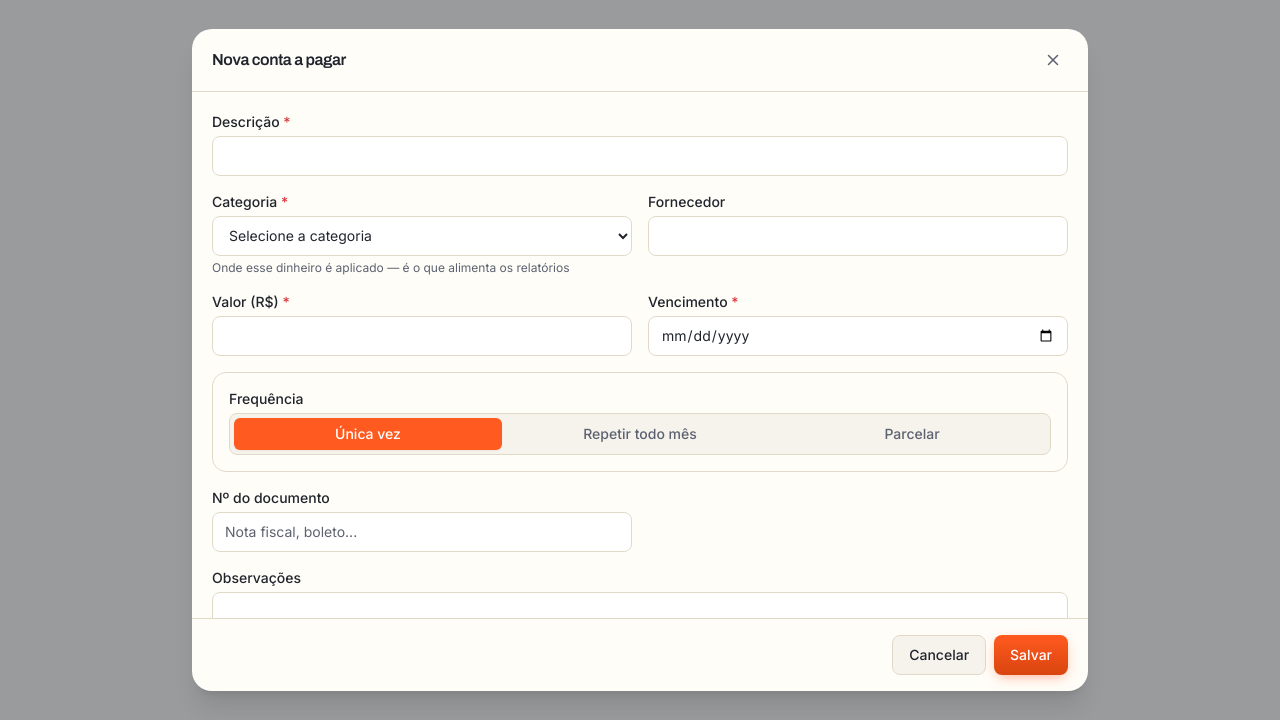
Test: ContaFormModal › requires description, category, a positive value and a due date
Step 1. Click the button "Salvar" → click(1031, 655), box [994,635,1068,675]
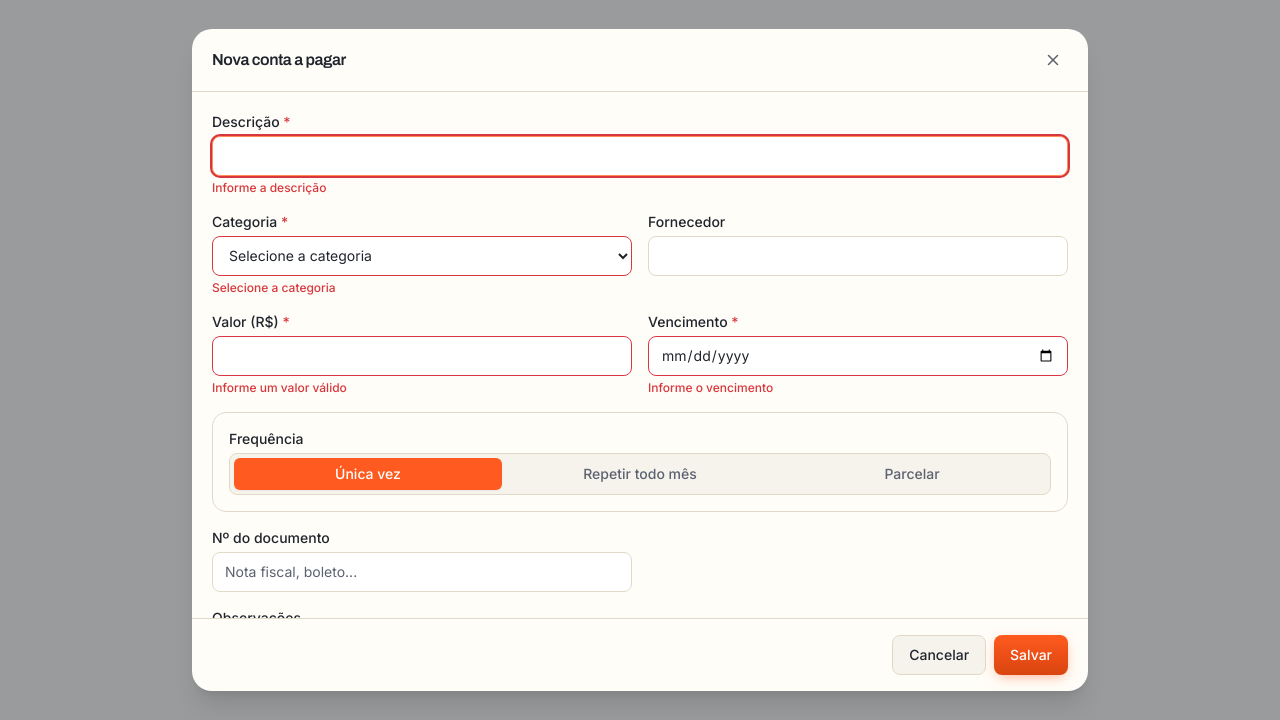
Expected: the text "Informe a descrição" is shown, [212,180,326,195]
Expected: the text "Selecione a categoria" is shown, [212,280,336,295]
Expected: the text "Informe um valor válido" is shown, [212,380,347,395]
